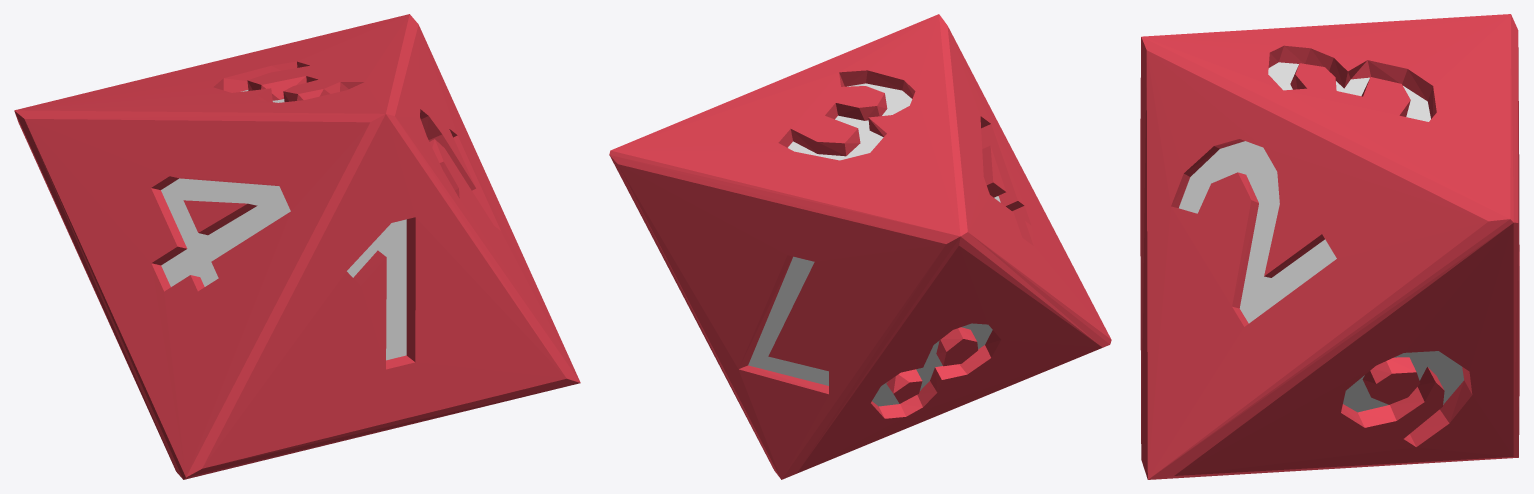
3 renders of one model, left to right at view 1: azimuth 30°, elevation 25°; view 2: azimuth 150°, elevation 25°; view 3: azimuth 270°, elevation 25°, orthographic. The views are drawn at different scales.
Parts seen in each view (by area): view 1: 8_Sided_Dice_With_Number_8; view 2: 8_Sided_Dice_With_Number_8; view 3: 8_Sided_Dice_With_Number_8.
Part boxes in pixels (x1,y1,x2,y2): 8_Sided_Dice_With_Number_8: (14,14,580,479); 8_Sided_Dice_With_Number_8: (609,14,1111,479); 8_Sided_Dice_With_Number_8: (1140,14,1519,479).
Bounding box in the file's own units: 5.22 × 4.98 × 4.07.
